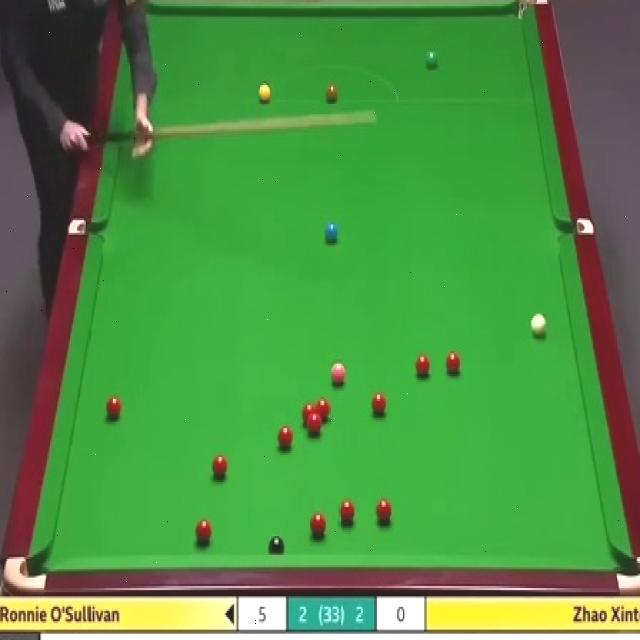black-ball: (268, 537, 284, 553)
blue-ball: (323, 221, 338, 244)
brown-ball: (324, 82, 339, 104)
green-ball: (424, 46, 440, 68)
pink-ball: (329, 362, 347, 384)
red-ball: (276, 424, 295, 452), (210, 453, 230, 479), (338, 500, 356, 527), (195, 517, 212, 544), (309, 511, 326, 538), (307, 412, 323, 440), (313, 397, 331, 421), (445, 349, 460, 376), (105, 397, 122, 420), (376, 500, 393, 522), (415, 355, 431, 377), (372, 391, 386, 416), (302, 403, 316, 427)
white-ball: (530, 310, 548, 338)
yellow-ball: (256, 83, 272, 104)
